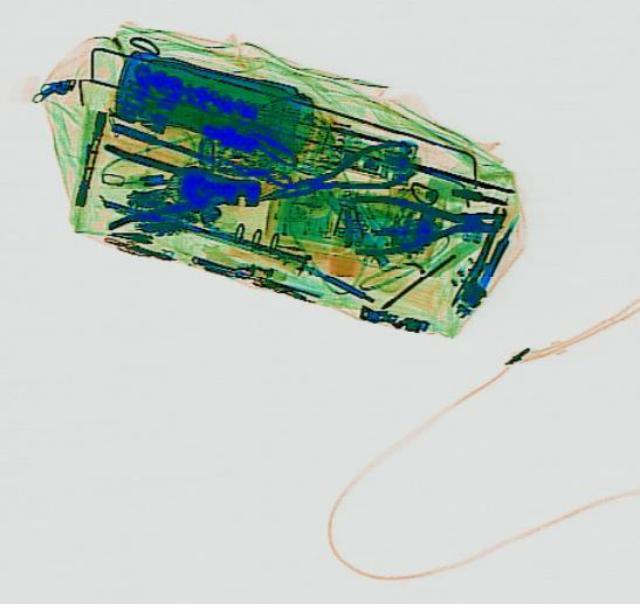Pliers: (96, 141, 260, 234), (249, 133, 417, 218), (348, 193, 504, 251)
